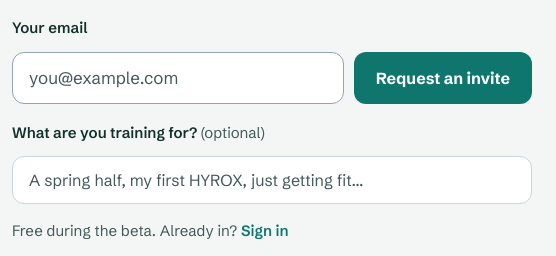
success › replaces the form with the success panel, names the email, and moves focus there
The width and height of the screenshot is (556, 256).
Type "new@example.com" into the field labelled "Your email" at coordinates (178, 78), box [12,52,344,104]
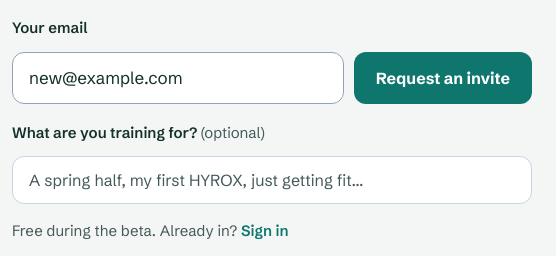
Click the button "Request an invite" at coordinates (443, 78), box [354,52,532,104]
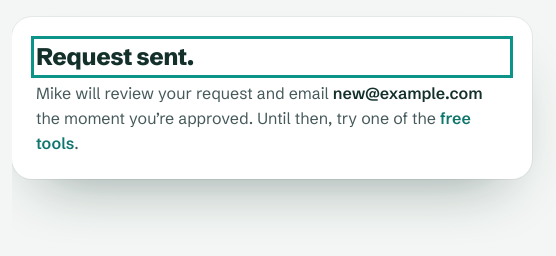
expect the message shows "Request sent.": met, box [36,42,194,71]
expect the message shows "new@example.com": met, box [333,83,483,103]
expect the form is gone: met
